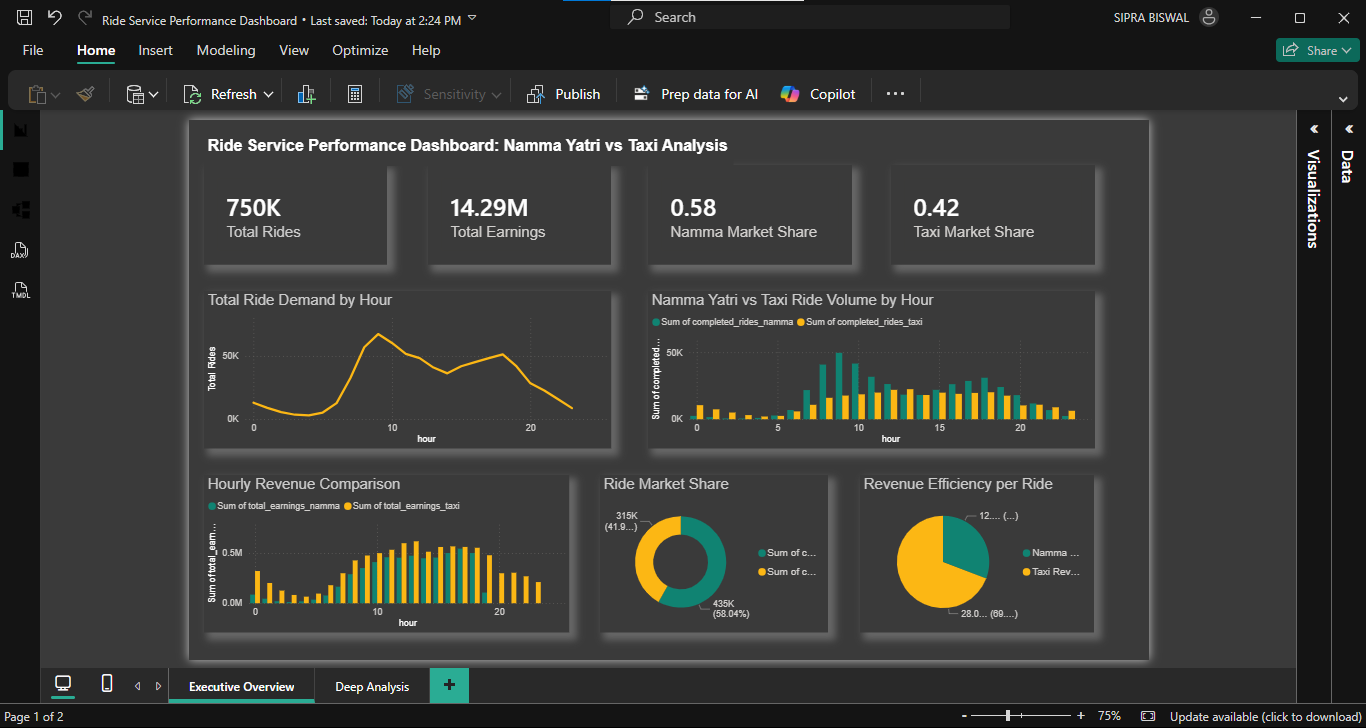

The page's visual inventory and layout, read from the dashboard file:
{"tool":"powerbi","page":{"name":"Executive Overview","canvas":[1280,720],"ordinal":0},"visuals":[{"type":"cardVisual","fields":{"Data":["ride_comparison.Total Rides"]},"box":[20.2,60.5,243.6,132.7],"z":0},{"type":"cardVisual","fields":{"Data":["ride_comparison.Total Earnings"]},"box":[319.2,60.5,243.6,132.7],"z":1000},{"type":"cardVisual","fields":{"Data":["ride_comparison.Namma Market Share"]},"box":[611.4,60.5,272.1,132.7],"z":2000},{"type":"cardVisual","fields":{"Data":["ride_comparison.Taxi Market Share"]},"box":[935.6,60.5,272.1,132.7],"z":3000},{"type":"lineChart","title":"Total Ride Demand by Hour","fields":{"Category":["ride_comparison.hour"],"Y":["ride_comparison.Total Rides"]},"box":[20.2,228.5,542.6,210],"z":4000},{"type":"clusteredColumnChart","title":"Namma Yatri vs Taxi Ride Volume by Hour","fields":{"Category":["ride_comparison.hour"],"Y":["Sum(ride_comparison.completed_rides_namma)","Sum(ride_comparison.completed_rides_taxi)"]},"box":[611.4,228.5,596.3,210],"z":5000},{"type":"clusteredColumnChart","title":"Hourly Revenue Comparison","fields":{"Category":["ride_comparison.hour"],"Y":["Sum(ride_comparison.total_earnings_namma)","Sum(ride_comparison.total_earnings_taxi)"]},"box":[20.2,473.7,487.1,210],"z":6000},{"type":"donutChart","title":"Ride Market Share","fields":{"Y":["Sum(ride_comparison.completed_rides_namma)","Sum(ride_comparison.completed_rides_taxi)"]},"box":[547.6,473.7,304,210],"z":7000},{"type":"pieChart","title":"Revenue Efficiency per Ride","fields":{"Y":["ride_comparison.Namma Revenue per Ride","ride_comparison.Taxi Revenue per Ride"]},"box":[895.3,473.7,312.4,210],"z":8000},{"type":"textbox","box":[20.2,16.8,705.5,43.7],"z":9000}]}

Visuals, with their boxes on the page's 1280x720 design canvas (x1, y1, x2, y2). These are canvas units, not pixel positions in the 1366x728 screenshot, which may show the page scaled, cropped or inside an application window:
cardVisual - ride_comparison.Total Rides: {"x1": 20, "y1": 60, "x2": 264, "y2": 193}
cardVisual - ride_comparison.Total Earnings: {"x1": 319, "y1": 60, "x2": 563, "y2": 193}
cardVisual - ride_comparison.Namma Market Share: {"x1": 611, "y1": 60, "x2": 884, "y2": 193}
cardVisual - ride_comparison.Taxi Market Share: {"x1": 936, "y1": 60, "x2": 1208, "y2": 193}
"Total Ride Demand by Hour" lineChart: {"x1": 20, "y1": 228, "x2": 563, "y2": 438}
"Namma Yatri vs Taxi Ride Volume by Hour" clusteredColumnChart: {"x1": 611, "y1": 228, "x2": 1208, "y2": 438}
"Hourly Revenue Comparison" clusteredColumnChart: {"x1": 20, "y1": 474, "x2": 507, "y2": 684}
"Ride Market Share" donutChart: {"x1": 548, "y1": 474, "x2": 852, "y2": 684}
"Revenue Efficiency per Ride" pieChart: {"x1": 895, "y1": 474, "x2": 1208, "y2": 684}
textbox: {"x1": 20, "y1": 17, "x2": 726, "y2": 60}
